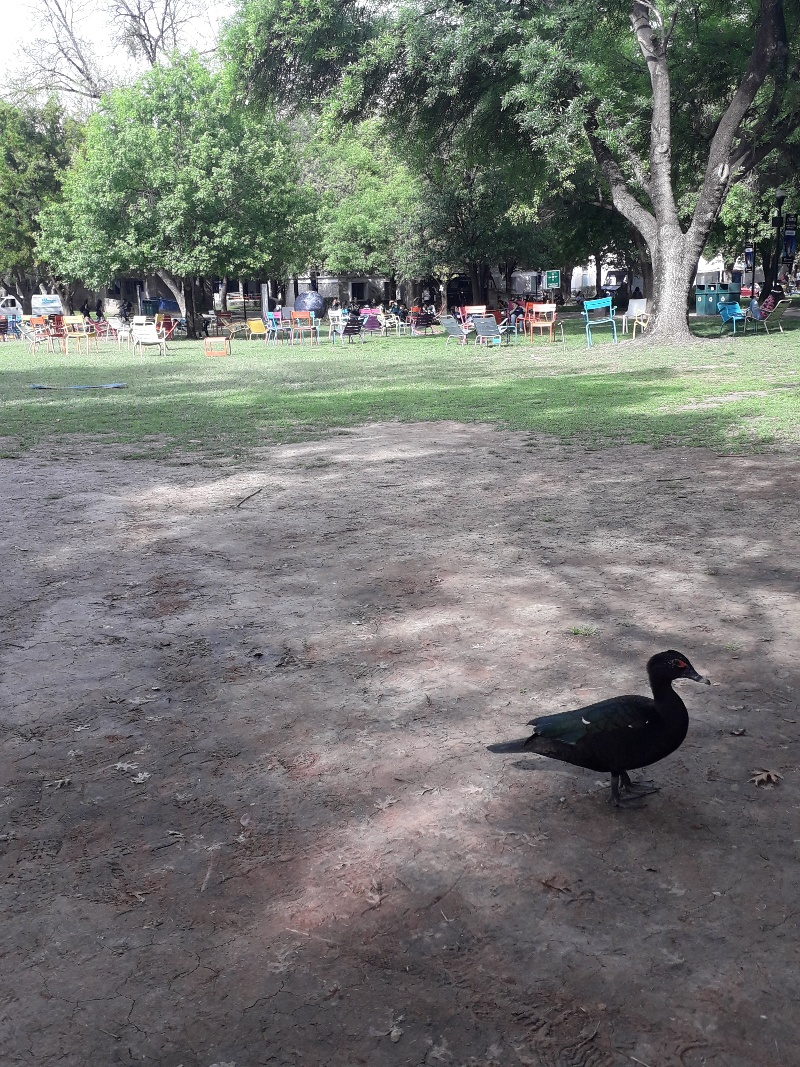pato: (499, 649, 712, 804)
